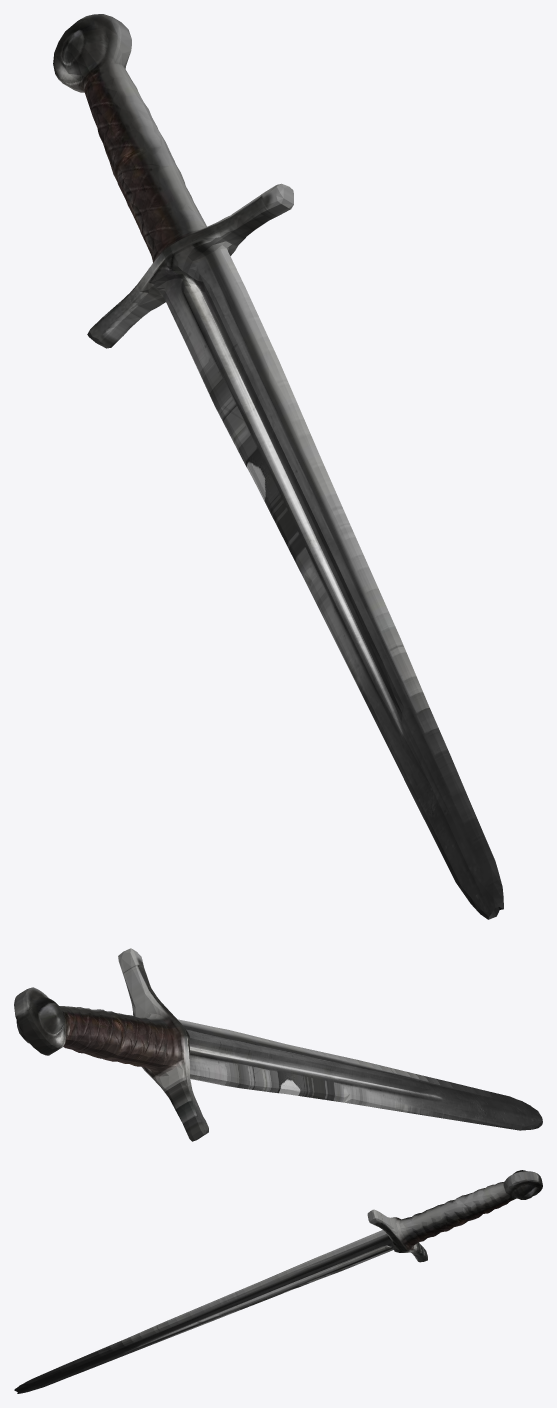
The model's file is wpn_longsword.glb.
The picture shows the model from 3 angles, top to bottom: view 1: azimuth 30°, elevation 25°; view 2: azimuth 150°, elevation 25°; view 3: azimuth 270°, elevation 25°; orthographic projection. The views are drawn at different scales.
Visible parts, largest first — view 1: wpn_longsword; view 2: wpn_longsword; view 3: wpn_longsword.
Part boxes in pixels (x1,y1,x2,y2): wpn_longsword: (53,14,503,919); wpn_longsword: (14,948,542,1141); wpn_longsword: (14,1170,542,1393).
Bounding box in the file's own units: 0.0924 × 0.2696 × 0.5129.
1 material, 1 textured.
